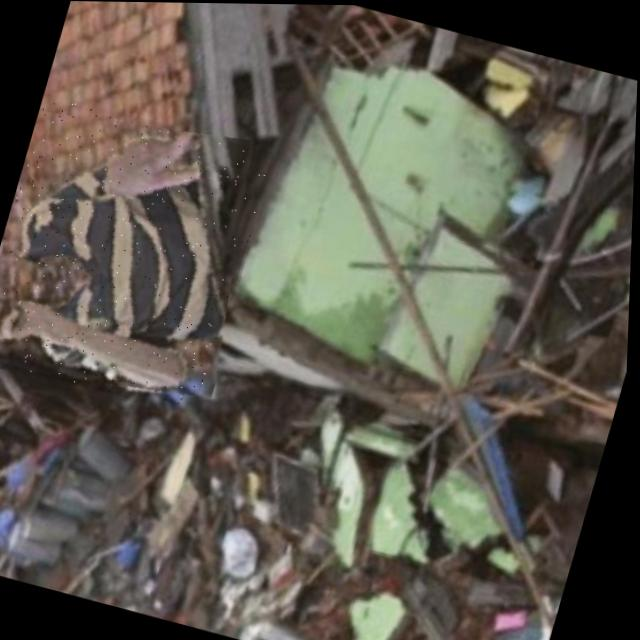Person in Rubble: (0, 90, 276, 416)
